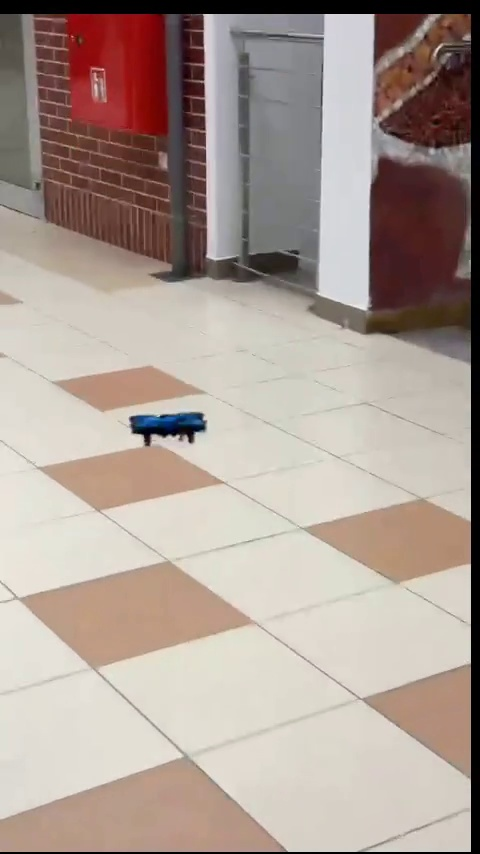drone: (129, 411, 207, 443)
